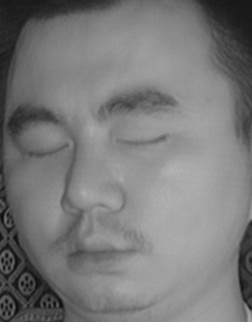blink: (114, 121, 171, 161), (20, 132, 73, 169)
mouth: (55, 222, 144, 281)
